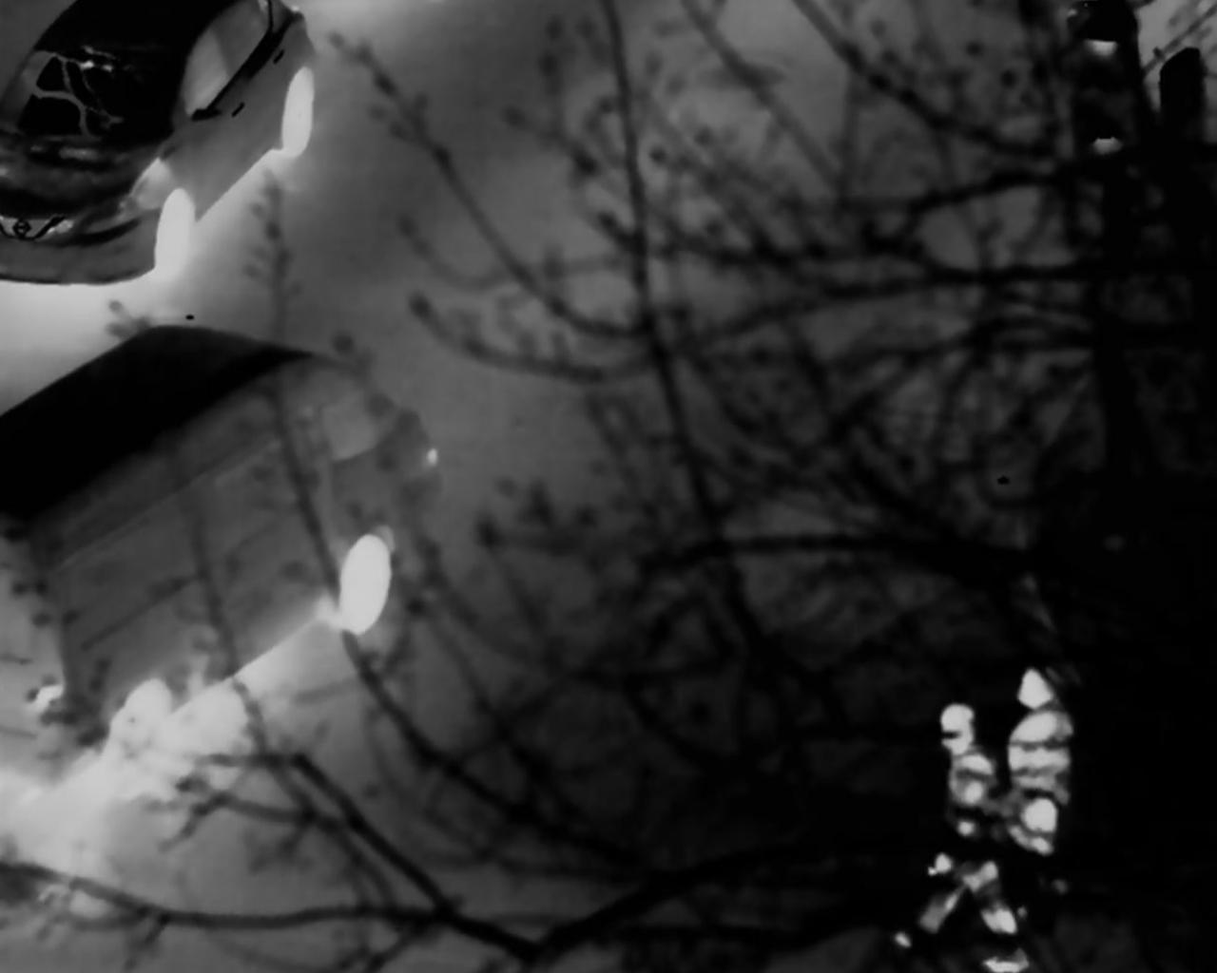person: (912, 707, 1013, 937), (1000, 665, 1087, 863)
